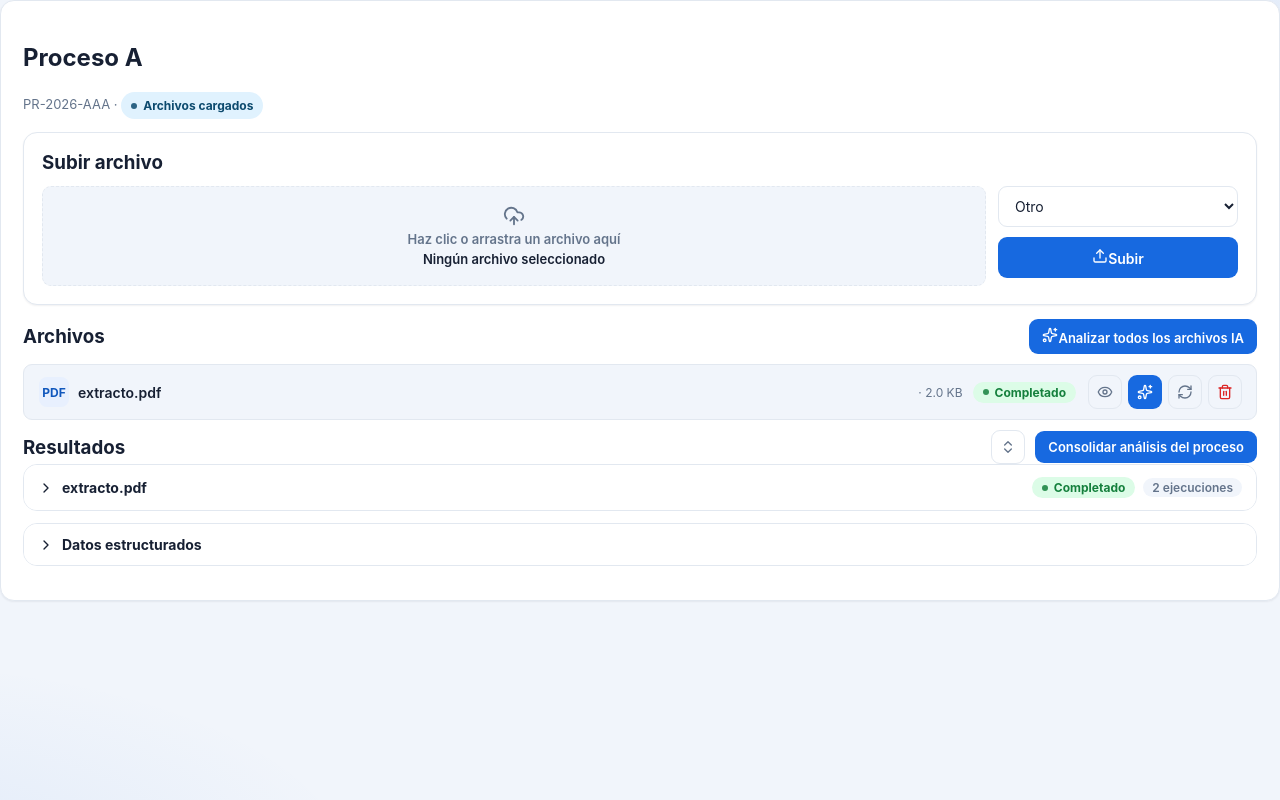
ProcessDetail › agrupa por archivo y muestra el historial de ejecuciones
This screenshot has width=1280, height=800.
Click the button with class "collapsible-head" that starts with "extracto.pdf".
click(104, 488)  # box [24,465,1256,510]
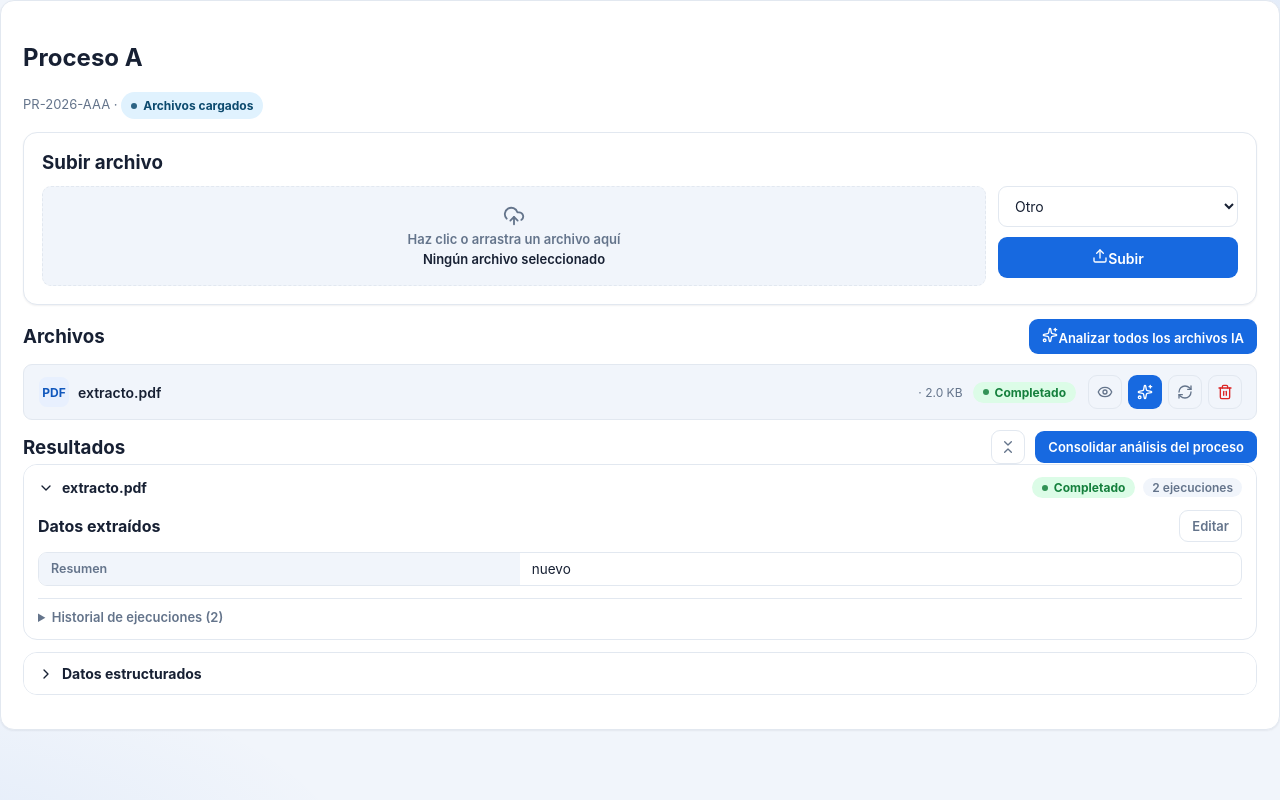
Expected: the text "nuevo" is shown, [532,561,571,577]
Expected: the heading "Historial de ejecuciones (2)" is shown, [52,609,223,625]
